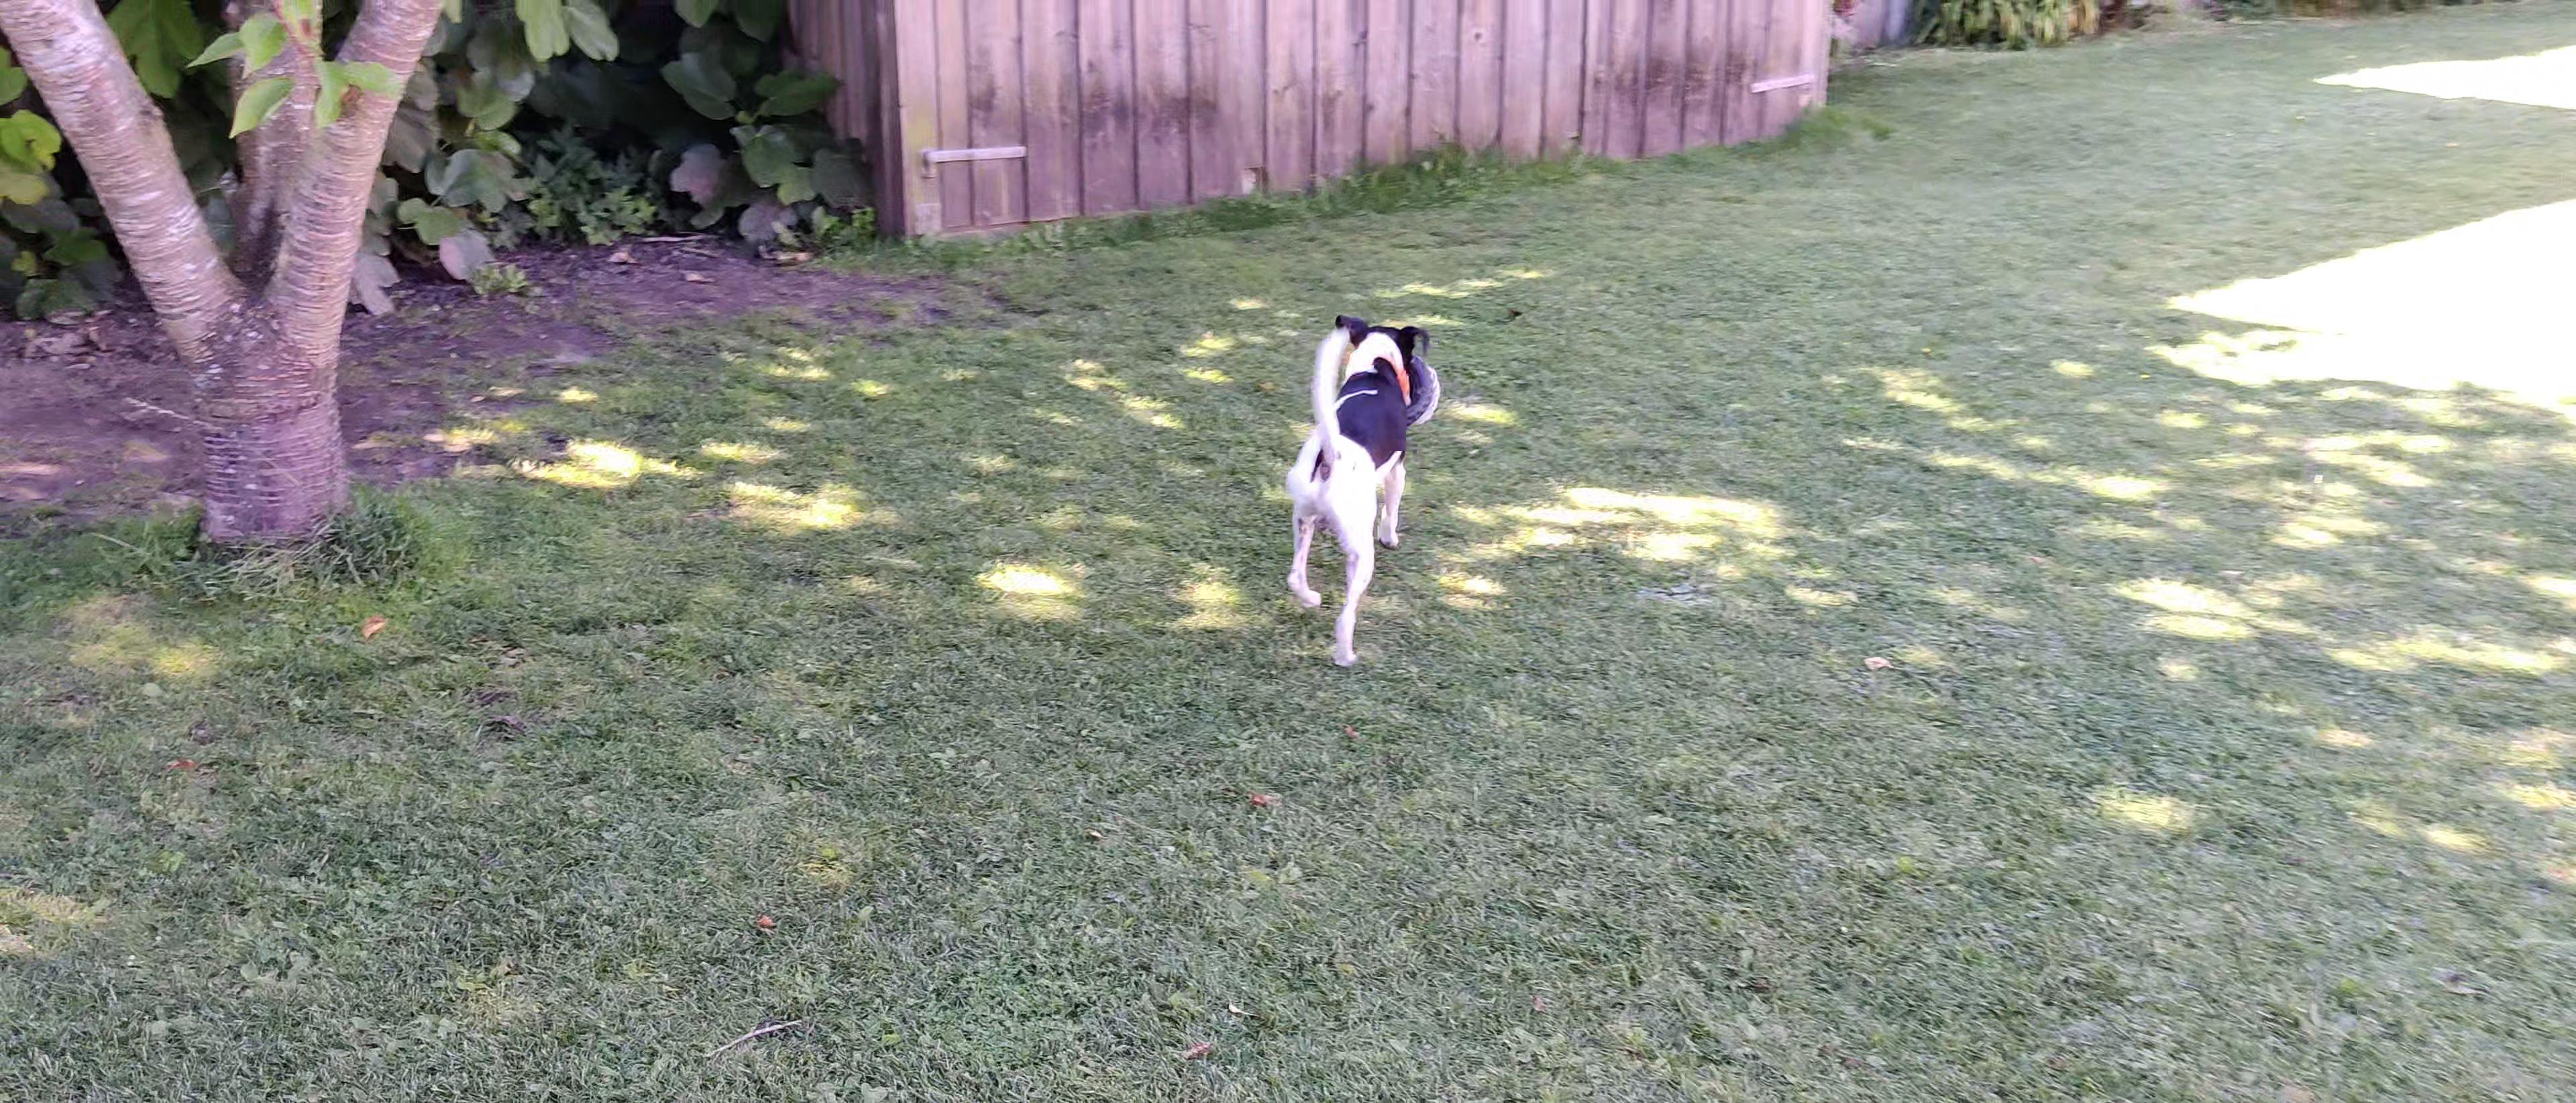Dog: (1280, 311, 1449, 667)
